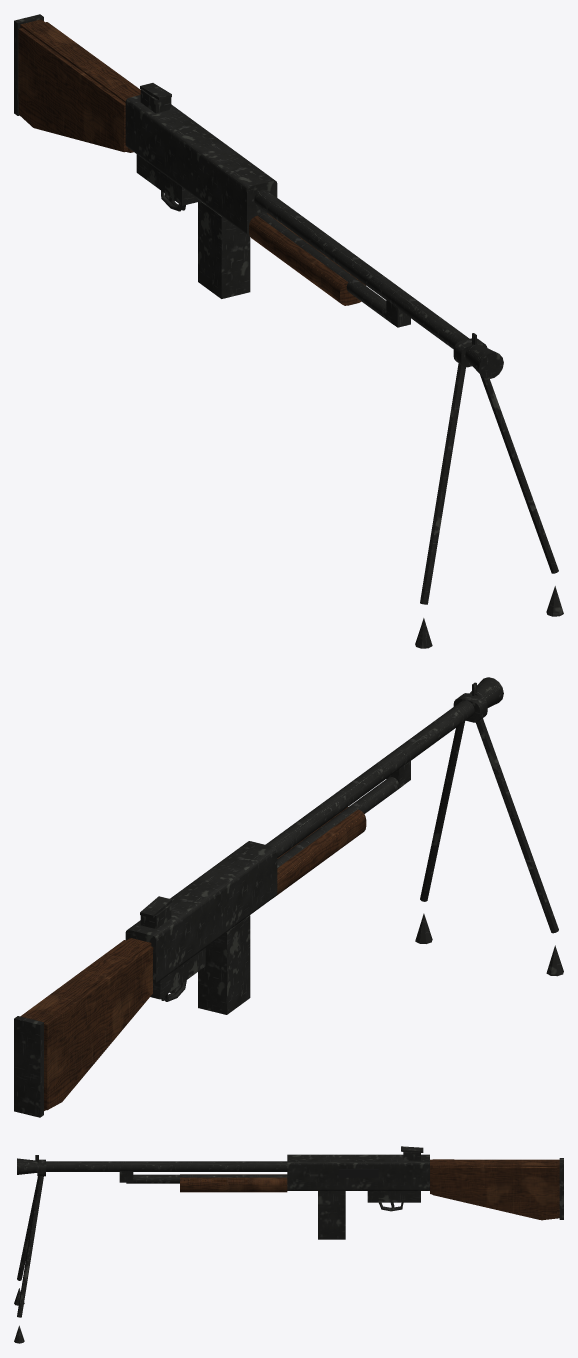
File: bar.glb
The picture shows the model from 3 angles, top to bottom: view 1: azimuth 30°, elevation 25°; view 2: azimuth 150°, elevation 25°; view 3: azimuth 270°, elevation 25°; orthographic projection. The views are drawn at different scales.
Parts seen in each view (by area): view 1: BAR_M1918A2; view 2: BAR_M1918A2; view 3: BAR_M1918A2.
Boxes of the visible parts, left/top/right/bottom form: BAR_M1918A2: left=14, top=14, right=563, bottom=648; BAR_M1918A2: left=14, top=677, right=563, bottom=1117; BAR_M1918A2: left=14, top=1146, right=563, bottom=1343.
Size of the model in its own units: 0.224 by 0.4307 by 1.23.
3 materials, 2 textured.
